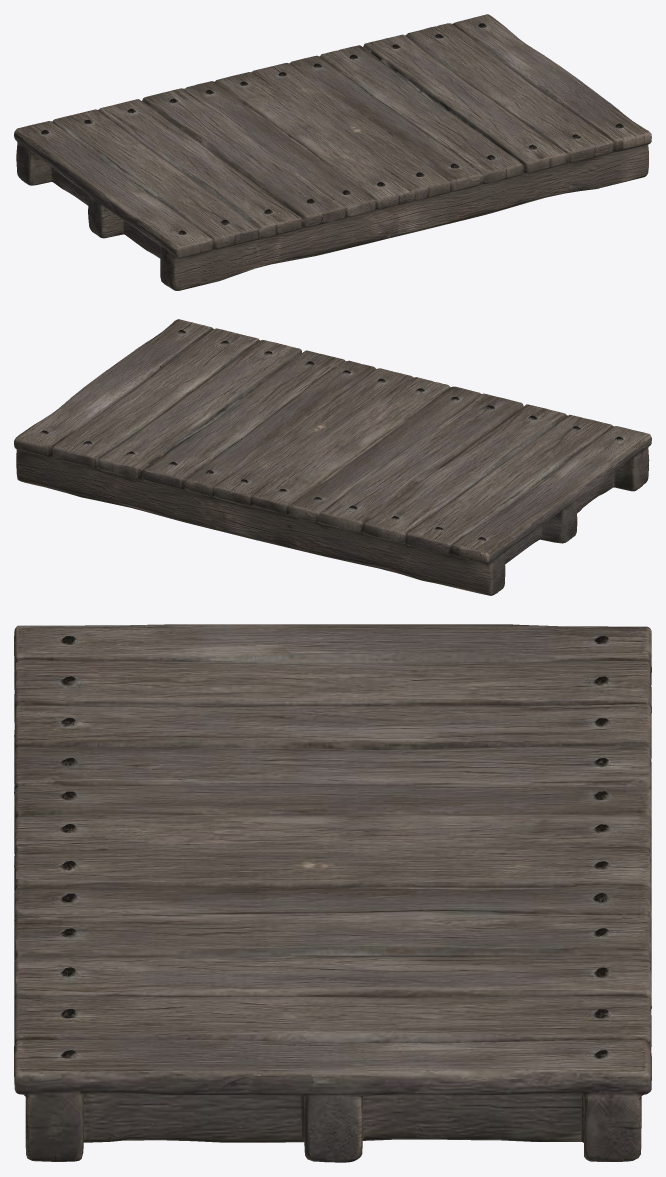
File: wharf-boardwalk-plank.glb
3 renders of one model, top to bottom at view 1: azimuth 30°, elevation 25°; view 2: azimuth 150°, elevation 25°; view 3: azimuth 270°, elevation 25°, orthographic. The views are drawn at different scales.
Visible parts, largest first — view 1: Mesh_0; view 2: Mesh_0; view 3: Mesh_0.
Boxes of the visible parts, x1=… form: Mesh_0: x1=14, y1=14, x2=651, y2=290; Mesh_0: x1=14, y1=319, x2=651, y2=595; Mesh_0: x1=14, y1=624, x2=651, y2=1162.
Size of the model in its own units: 1.9 by 0.188 by 1.13.
Materials: 1 (1 with a texture image).
